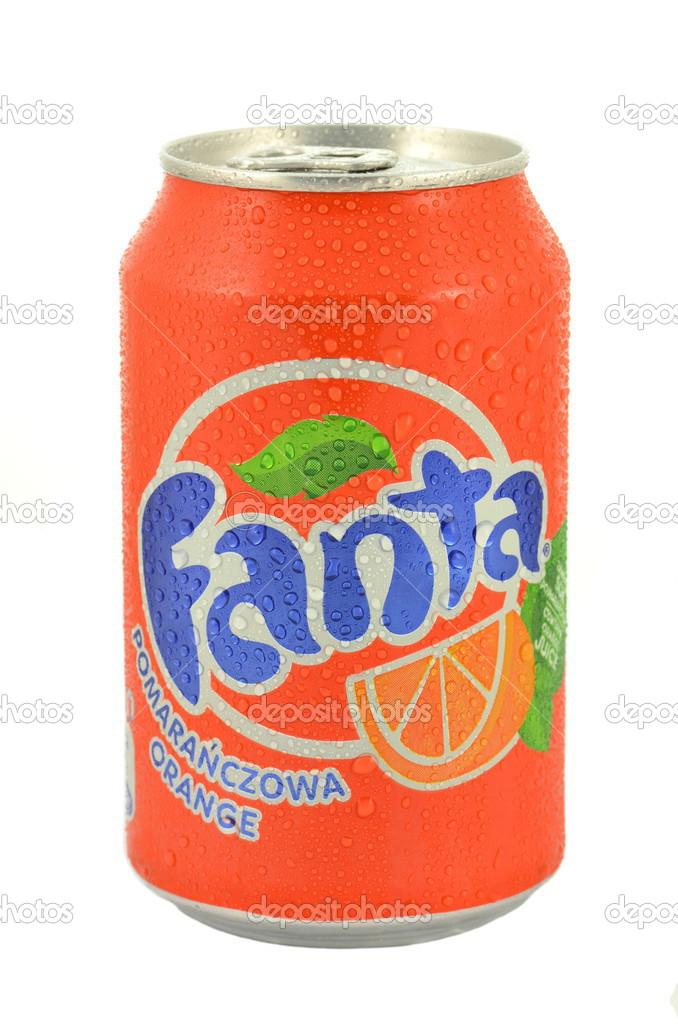metal: (120, 122, 568, 948)
